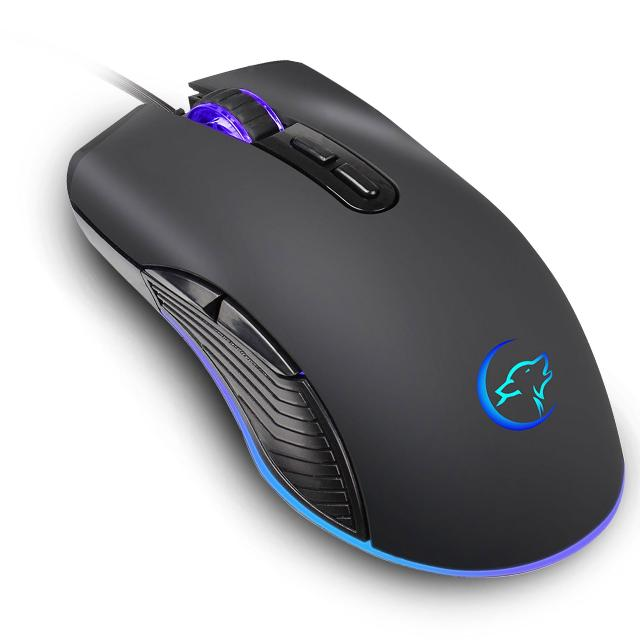Computer-Mouse: (65, 60, 628, 583)
